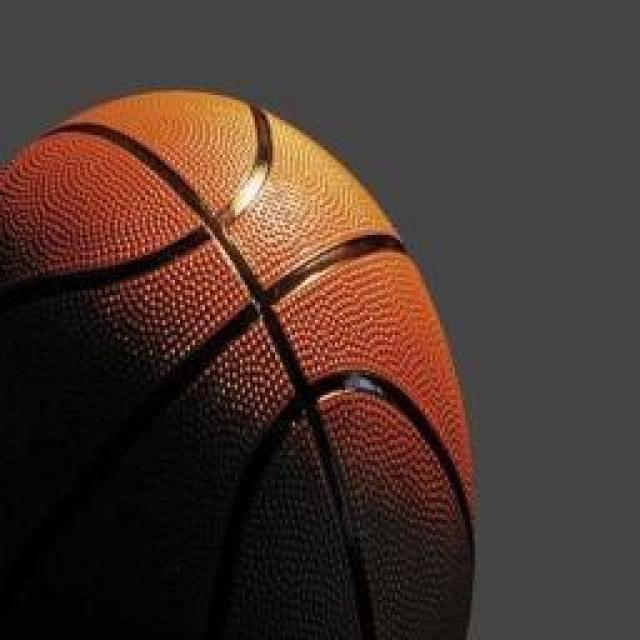Basketball: (2, 88, 472, 640)
